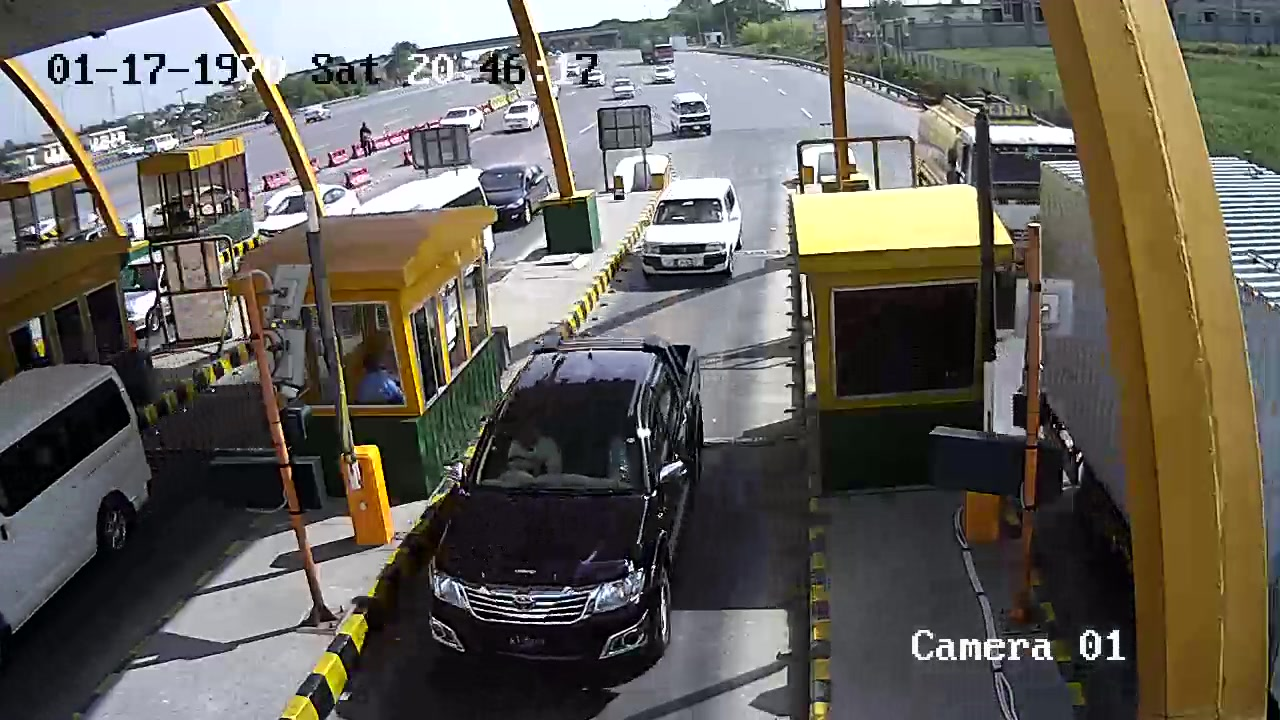F1: (407, 326, 730, 685)
